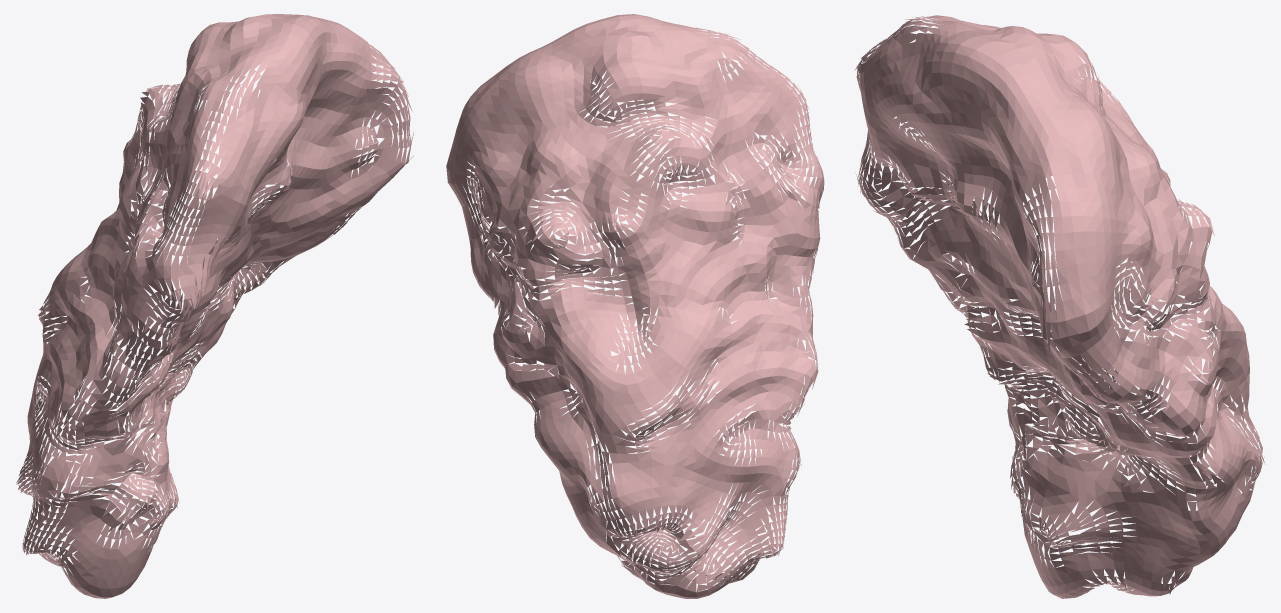
The model's file is 3d-vh-f-palatine-tonsil-r_0.8.glb.
3 renders of one model, left to right at view 1: azimuth 30°, elevation 25°; view 2: azimuth 150°, elevation 25°; view 3: azimuth 270°, elevation 25°, orthographic. The views are drawn at different scales.
Parts seen in each view (by area): view 1: VH_F_palatine_tonsil_R; view 2: VH_F_palatine_tonsil_R; view 3: VH_F_palatine_tonsil_R.
Boxes of the visible parts, <box> form: VH_F_palatine_tonsil_R: <box>16,14,413,598</box>; VH_F_palatine_tonsil_R: <box>446,14,824,598</box>; VH_F_palatine_tonsil_R: <box>854,15,1265,598</box>.
Bounding box in the file's own units: 0.0169 × 0.0239 × 0.0141.
